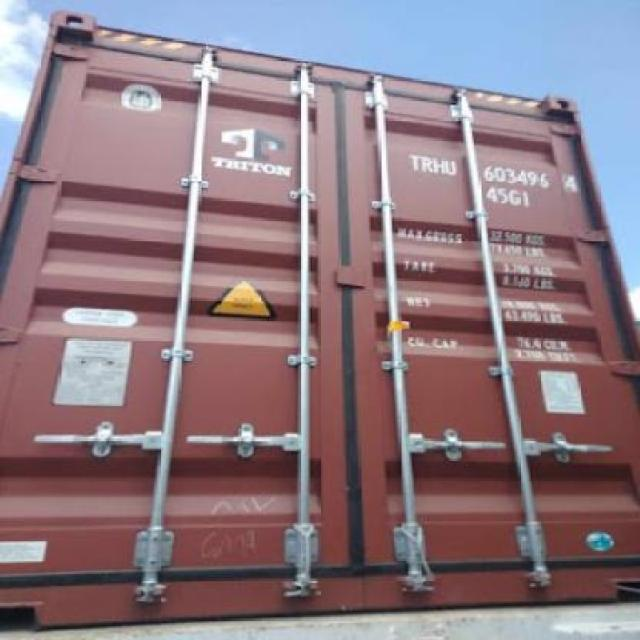ISO: (486, 186, 536, 208)
container_number: (413, 154, 574, 188)
